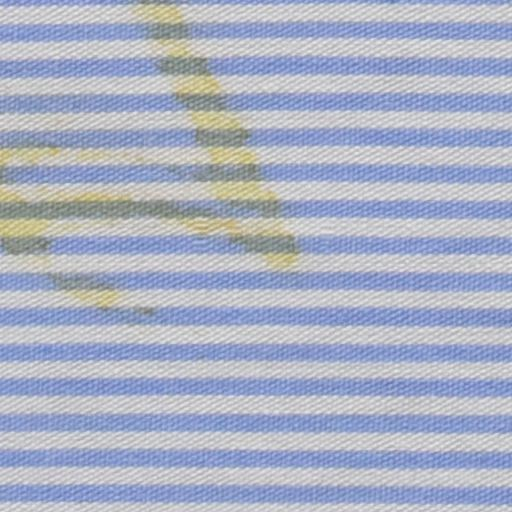defect: (1, 1, 290, 274)
